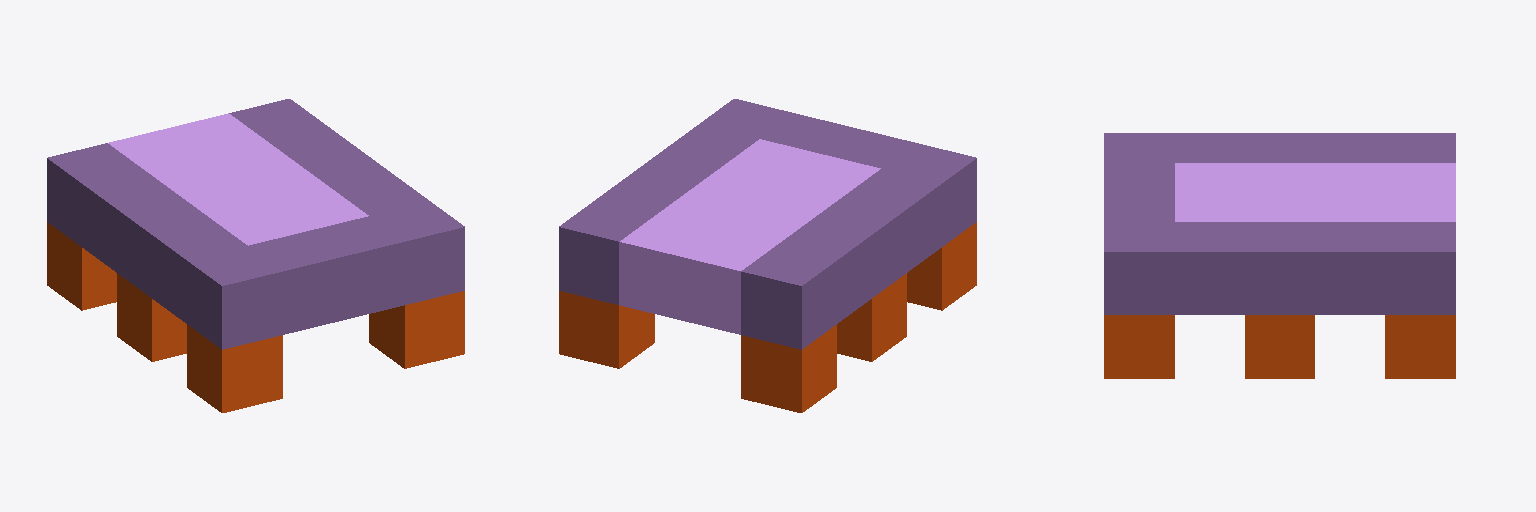
3 renders of one model, left to right at view 1: azimuth 30°, elevation 25°; view 2: azimuth 150°, elevation 25°; view 3: azimuth 270°, elevation 25°, orthographic.
Parts seen in each view (by area): view 1: object 1; view 2: object 1; view 3: object 1.
Boxes of the visible parts, x1,y1,x2,y2 form: object 1: [47, 99, 464, 412]; object 1: [559, 99, 976, 412]; object 1: [1104, 133, 1455, 378].
Size of the model in its own units: 0.4 by 0.2 by 0.5.
Materials: 1 (1 with a texture image).